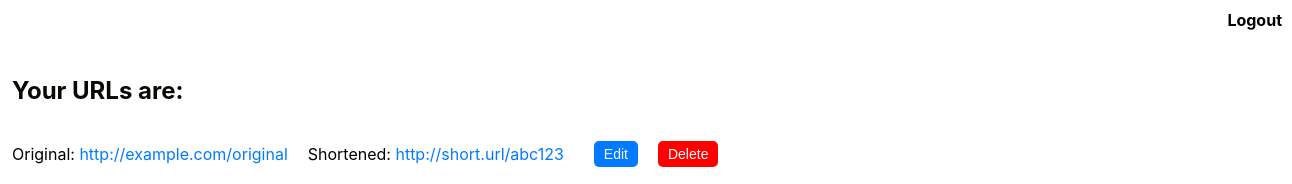
Test: test page for MyUrlsPage component › testing failure of deleting of url due to TypeError
Expected: the link "http://example.com/original" is shown, 79,144 -> 288,164
Expected: the link "http://short.url/abc123" is shown, 395,144 -> 564,164
What coordinates should you click on to do the following:
click the button "Delete"
I would click on:
 (688, 154)
Its box is 658,141 -> 718,167.
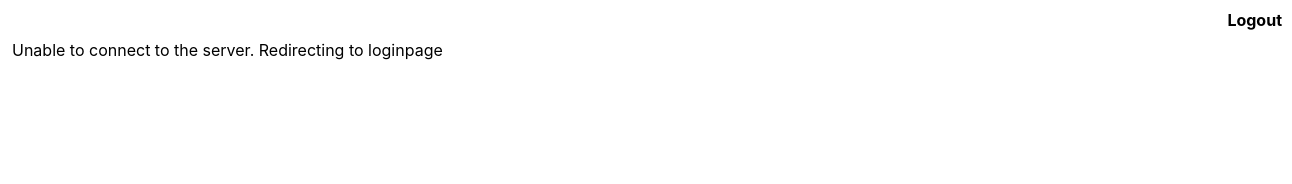
Expected: the text "Unable to connect to the server. Redirecting to loginpage" is shown, 12,40 -> 443,60
